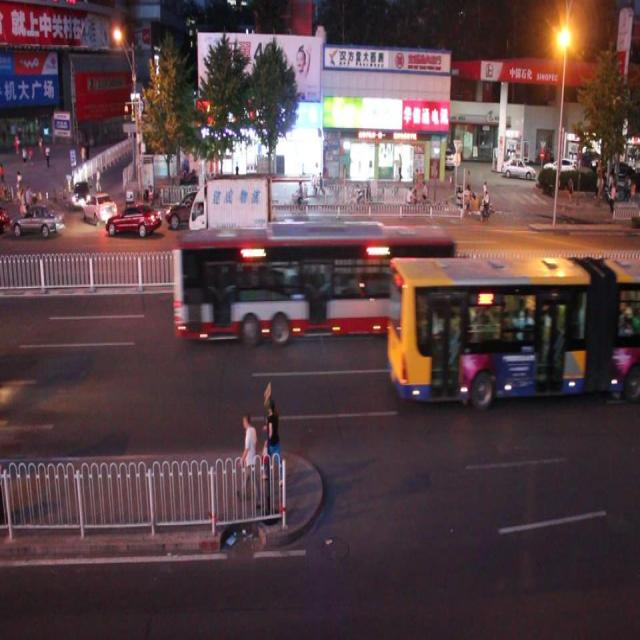bus: (188, 177, 271, 246)
car: (166, 185, 223, 232), (11, 202, 65, 241), (106, 201, 161, 238), (83, 188, 118, 226), (71, 178, 94, 208)
van: (387, 255, 640, 402), (172, 225, 452, 331)
